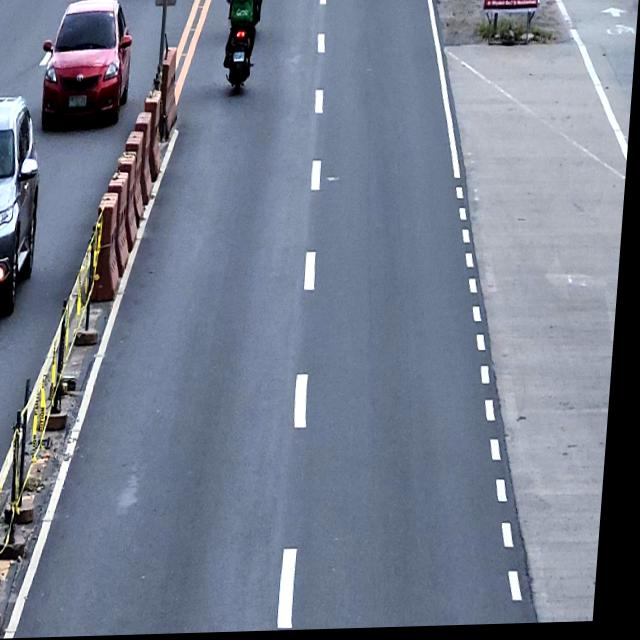Car: (38, 0, 136, 131), (0, 95, 49, 318)
License-Plate: (70, 95, 89, 108), (234, 53, 247, 63)
Motorcycle: (220, 0, 266, 100)
